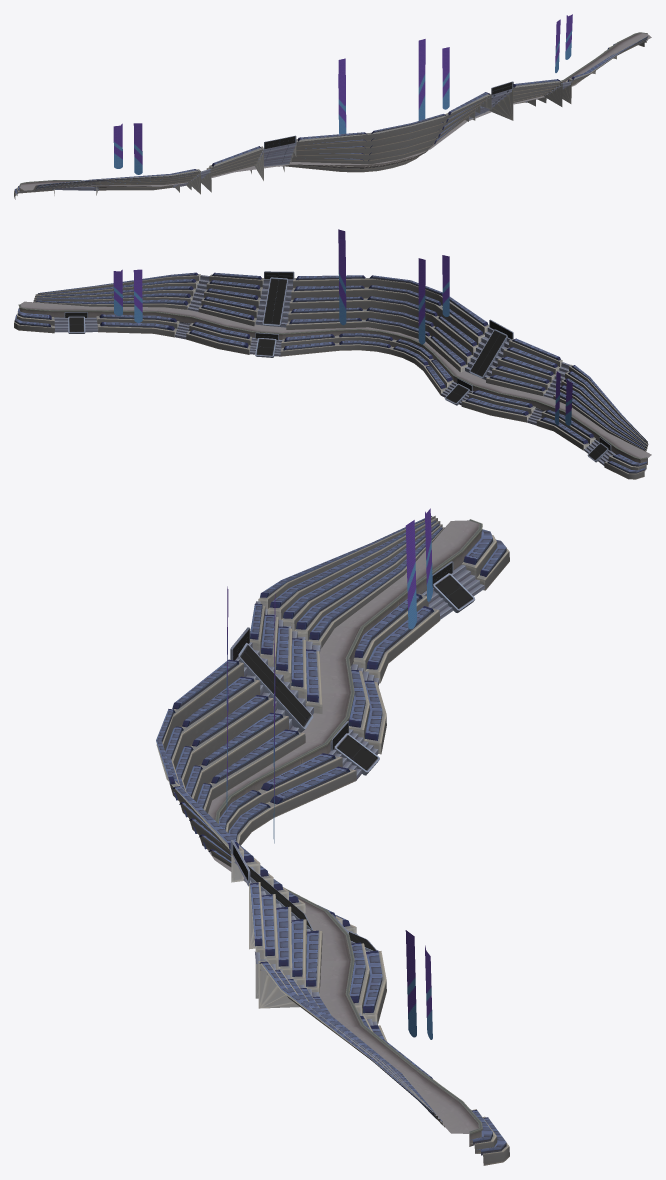
The model's file is pref_sm_beach_bk_pointmol_topbuild02_lv1.fbx.
The picture shows the model from 3 angles, top to bottom: view 1: azimuth 30°, elevation 25°; view 2: azimuth 150°, elevation 25°; view 3: azimuth 270°, elevation 25°; orthographic projection. The views are drawn at different scales.
Parts seen in each view (by area): view 1: sm_beach_bk_pointmol_topbuild02a_lv1, sm_beach_bk_pointmol_topbuild02b_lv1, sm_beach_bk_pointmol_topbuild02c_lv1, sm_beach_bk_pointmol_topbuild02d_lv1; view 2: sm_beach_bk_pointmol_topbuild02c_lv1, sm_beach_bk_pointmol_topbuild02a_lv1, sm_beach_bk_pointmol_topbuild02b_lv1, sm_beach_bk_pointmol_topbuild02d_lv1; view 3: sm_beach_bk_pointmol_topbuild02b_lv1, sm_beach_bk_pointmol_topbuild02a_lv1, sm_beach_bk_pointmol_topbuild02c_lv1, sm_beach_bk_pointmol_topbuild02d_lv1.
Boxes of the visible parts, x1,y1,x2,y2 form: sm_beach_bk_pointmol_topbuild02a_lv1: (282, 92, 491, 172); sm_beach_bk_pointmol_topbuild02b_lv1: (14, 135, 296, 199); sm_beach_bk_pointmol_topbuild02c_lv1: (469, 32, 651, 120); sm_beach_bk_pointmol_topbuild02d_lv1: (113, 14, 572, 174); sm_beach_bk_pointmol_topbuild02c_lv1: (14, 271, 294, 357); sm_beach_bk_pointmol_topbuild02a_lv1: (280, 275, 489, 395); sm_beach_bk_pointmol_topbuild02b_lv1: (441, 319, 651, 479); sm_beach_bk_pointmol_topbuild02d_lv1: (113, 229, 572, 425); sm_beach_bk_pointmol_topbuild02b_lv1: (230, 515, 509, 779); sm_beach_bk_pointmol_topbuild02a_lv1: (156, 659, 356, 933); sm_beach_bk_pointmol_topbuild02c_lv1: (230, 840, 509, 1165); sm_beach_bk_pointmol_topbuild02d_lv1: (226, 508, 432, 1039).
Bounding box in the file's own units: 125 × 21.51 × 30.47.
